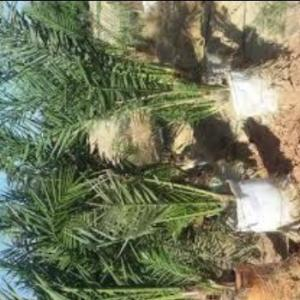palm tree: (0, 0, 255, 299)
